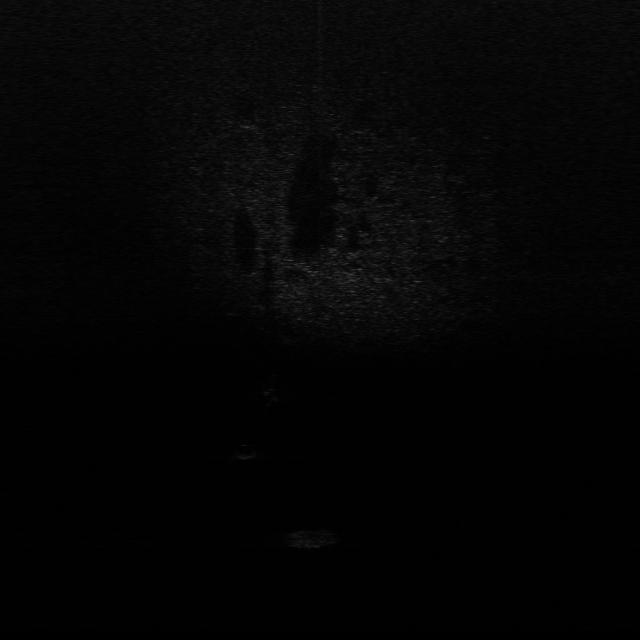ball: (233, 444, 261, 461)
circle cage: (284, 526, 340, 552)
human body: (257, 368, 283, 414)
